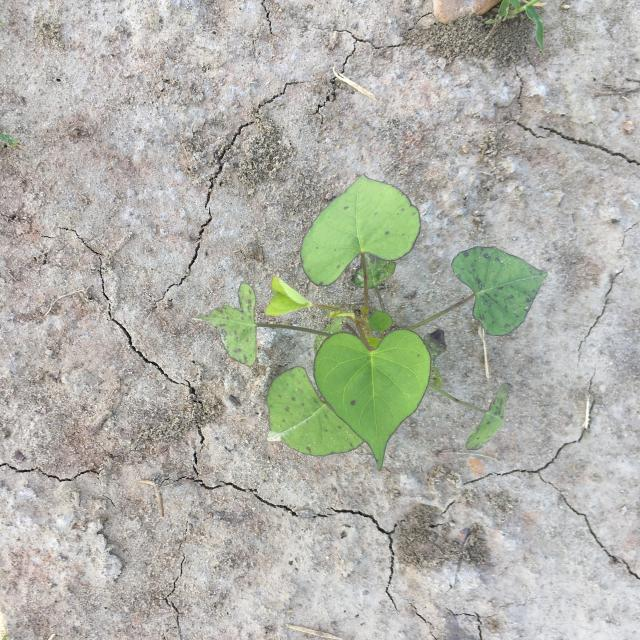MorningGlory: (196, 173, 549, 473)
